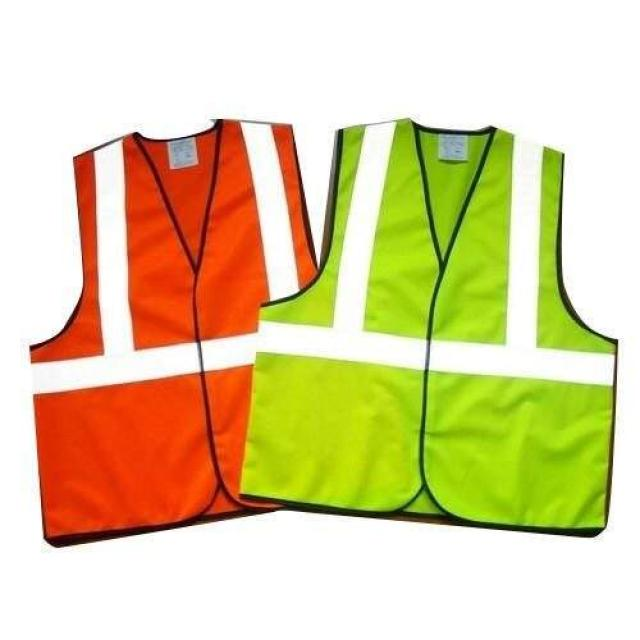safety_jacket: (309, 95, 617, 526), (36, 132, 280, 534)
